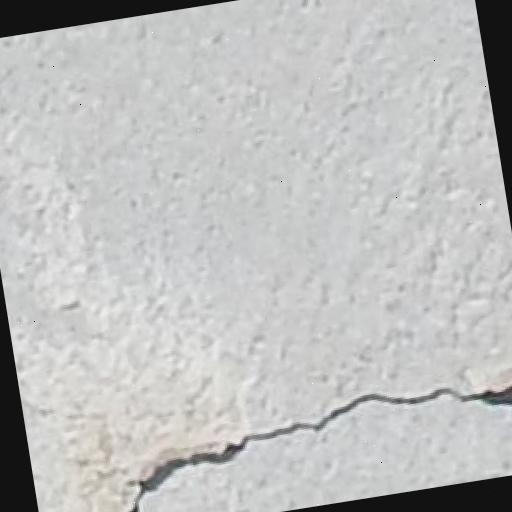spalling: (104, 359, 512, 512)
